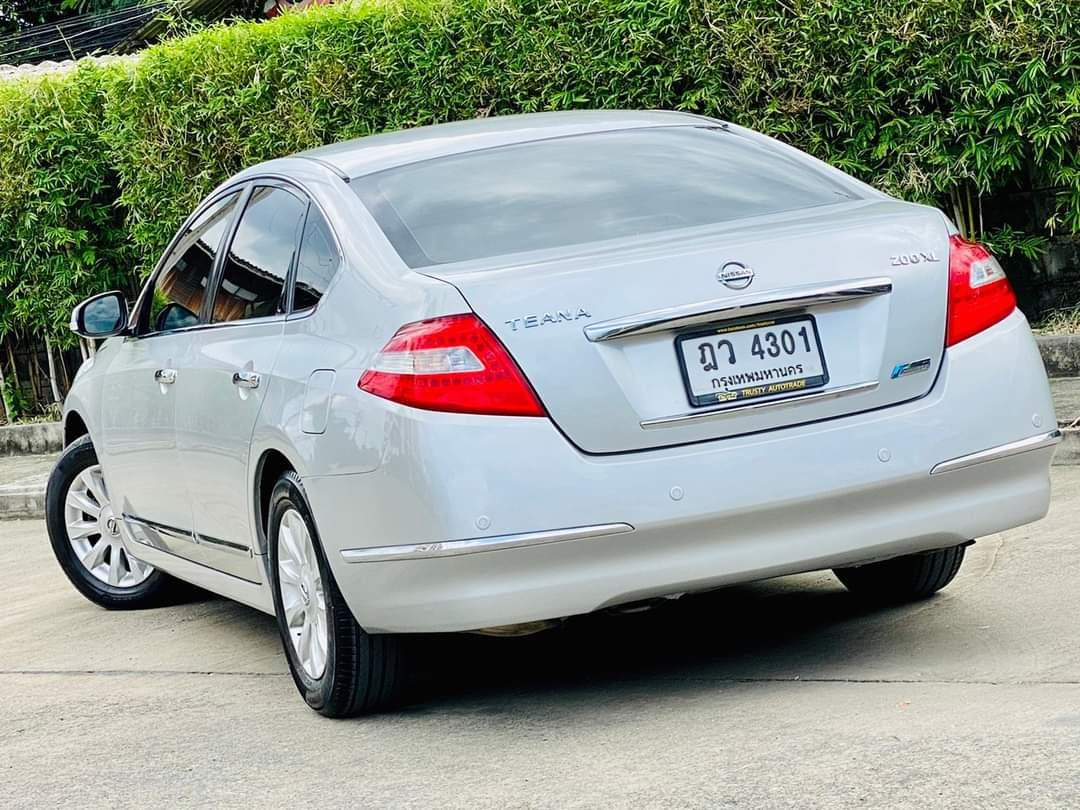license-plate: (672, 307, 836, 413)
